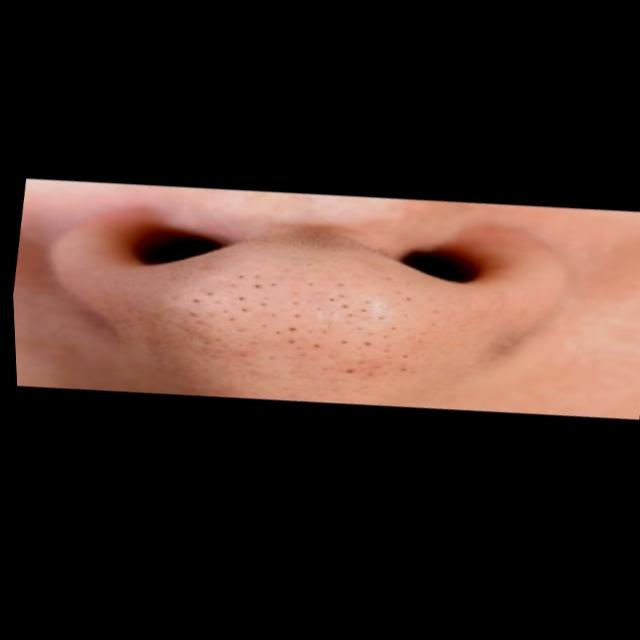blackhead: (172, 266, 427, 396)
